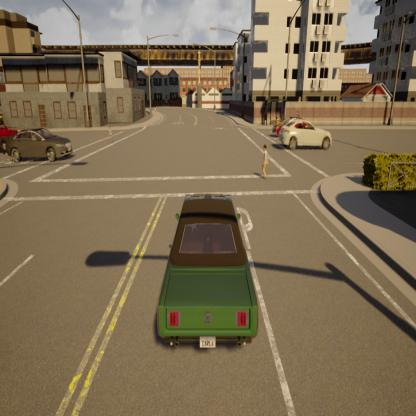Cars: (152, 182, 266, 358), (8, 125, 77, 169), (278, 118, 336, 156), (0, 109, 23, 156), (272, 113, 316, 136)
Pedestrian: (259, 142, 271, 184)
